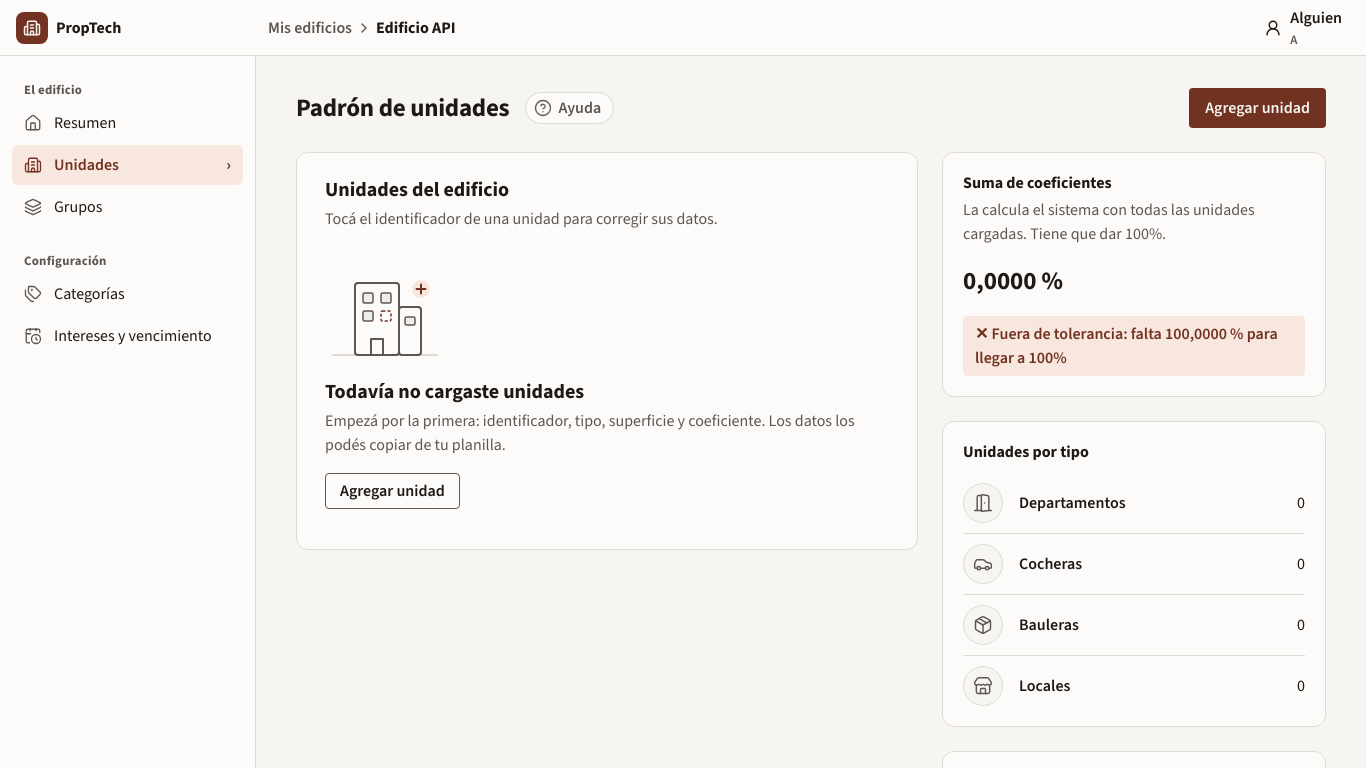
Test: PantallaPadron › 409 de identificador repetido marca el campo identificador, sin el texto técnico (Identificador repetido)
Click the button "Agregar unidad" in the row of "Padrón de unidades". click: point(1258, 108)
box: [1189,88,1326,128]
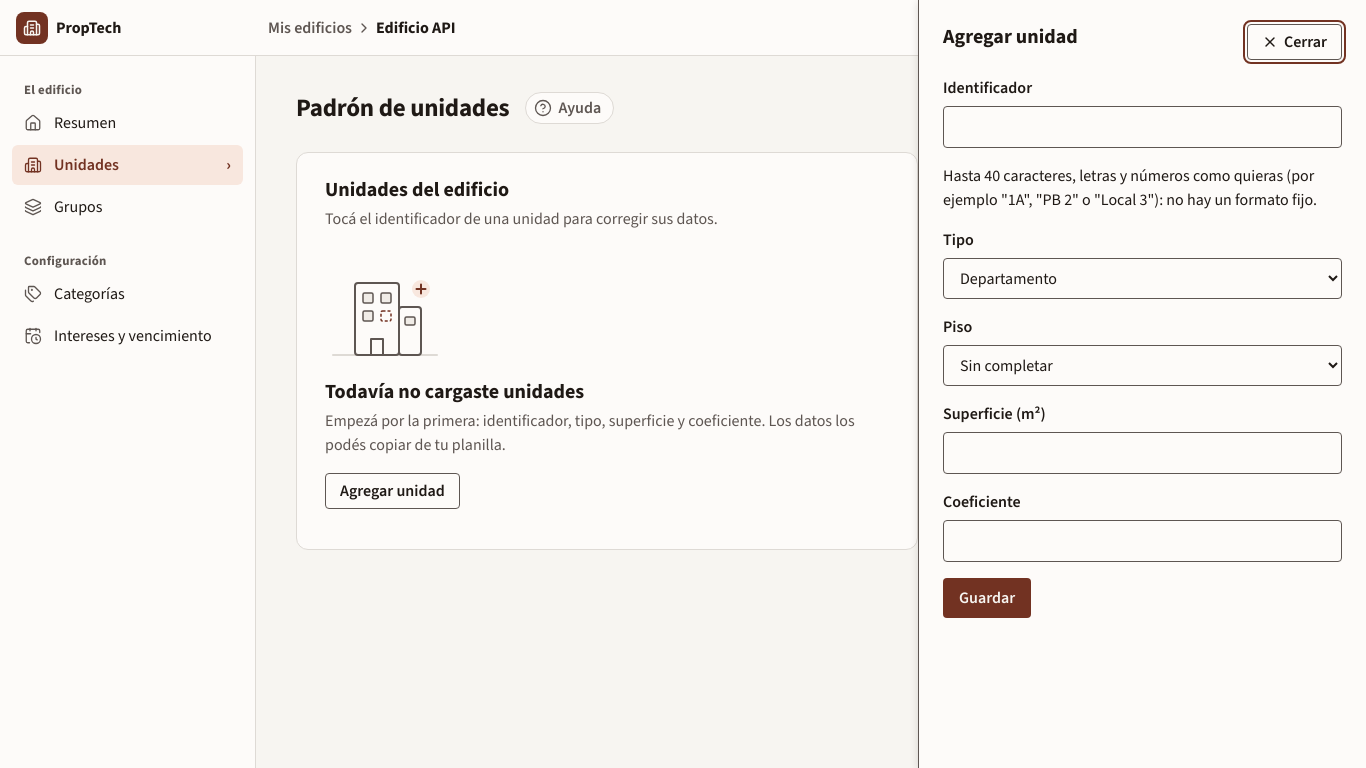
Type "1A" into the field labelled "Identificador". click: point(1142, 127)
box: [943,106,1342,148]
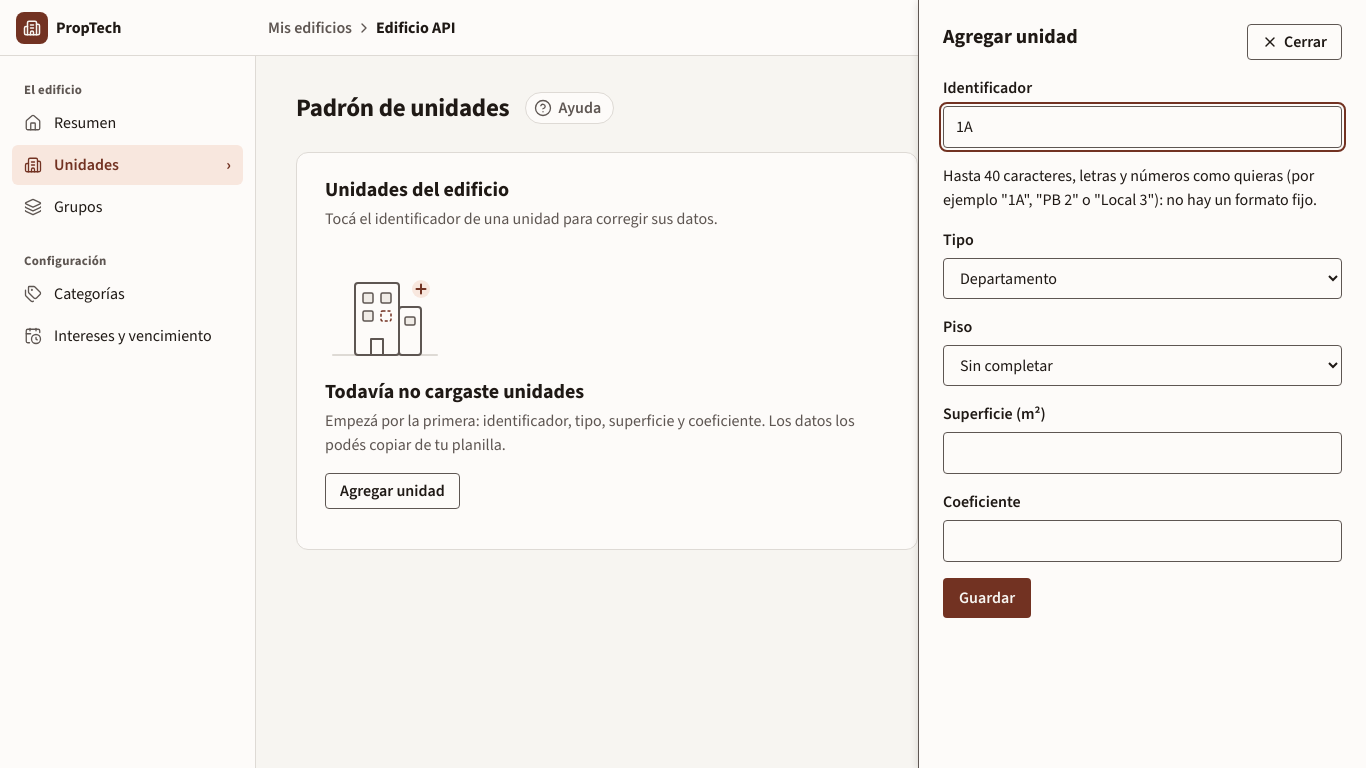
Type "60.00" into the field labelled "Superficie (m²)". click: point(1142, 453)
box: [943,432,1342,474]
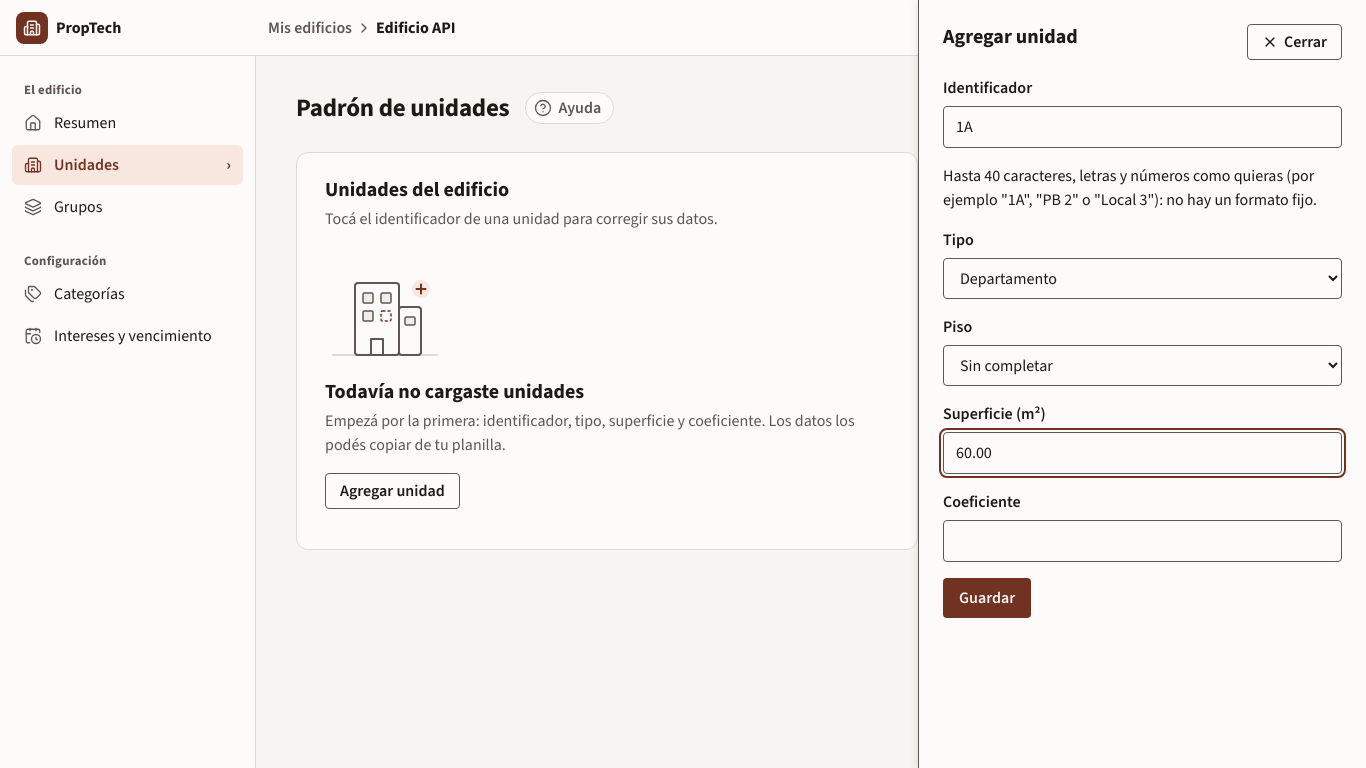
Type "0.500000" into the field labelled "Coeficiente". click: point(1142, 541)
box: [943,520,1342,562]
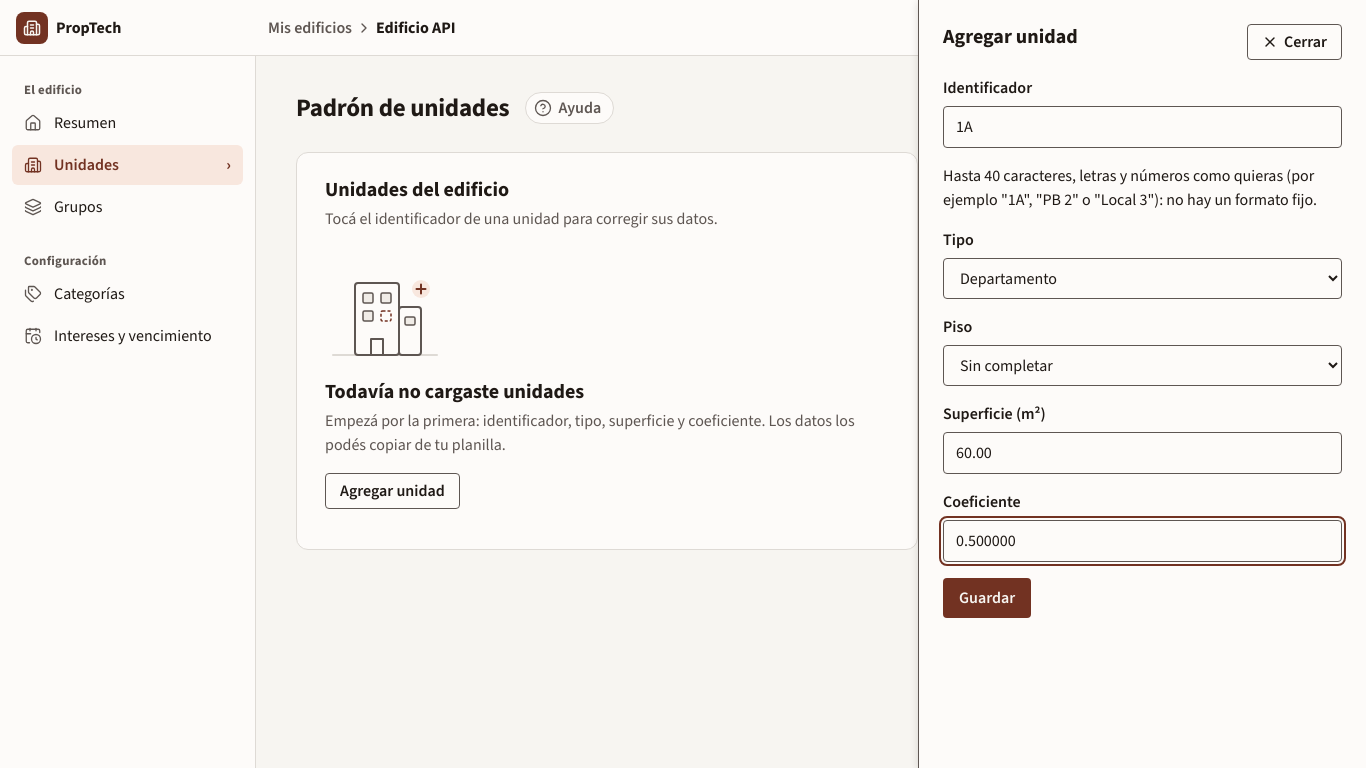
Click the button "Guardar". click: point(987, 598)
box: [943,578,1031,618]
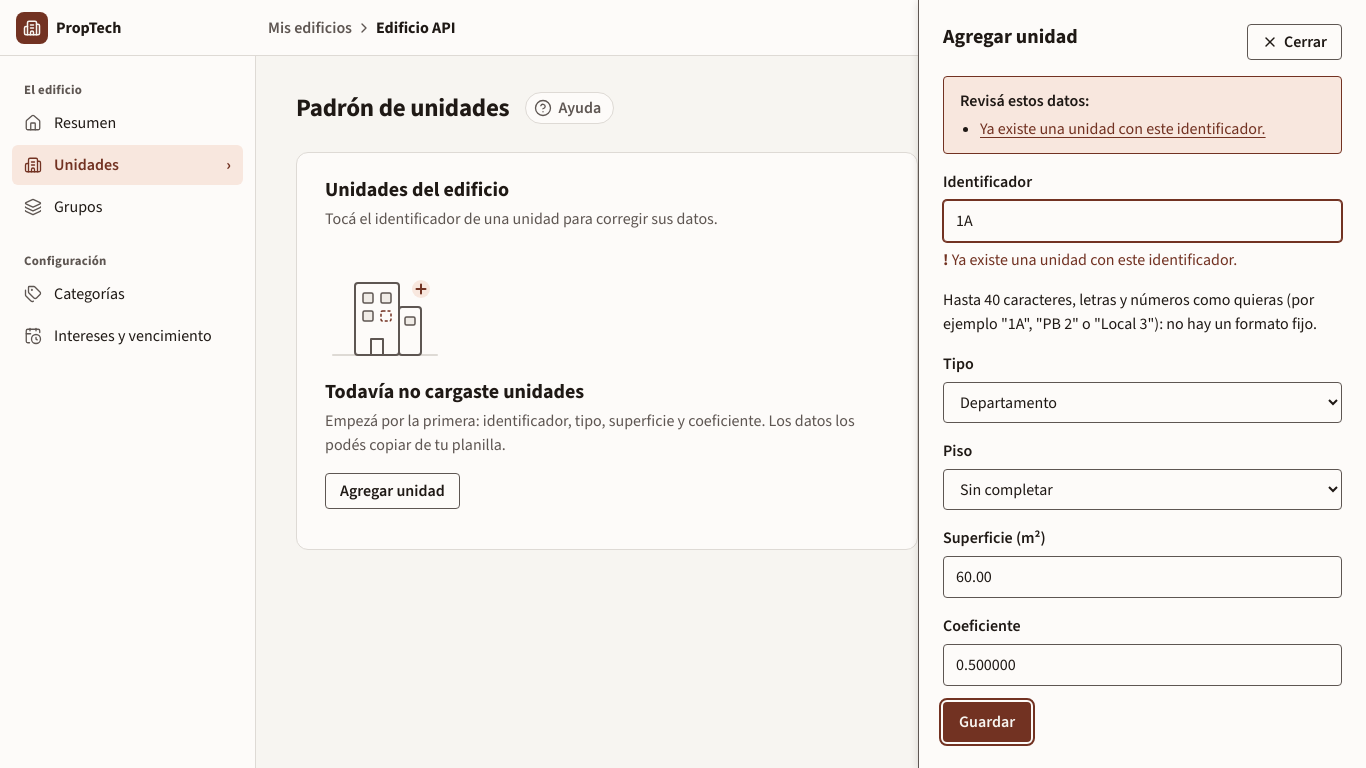
Expected: the link "Ya existe una unidad con este identificador." is shown, [980,118,1266,139]
